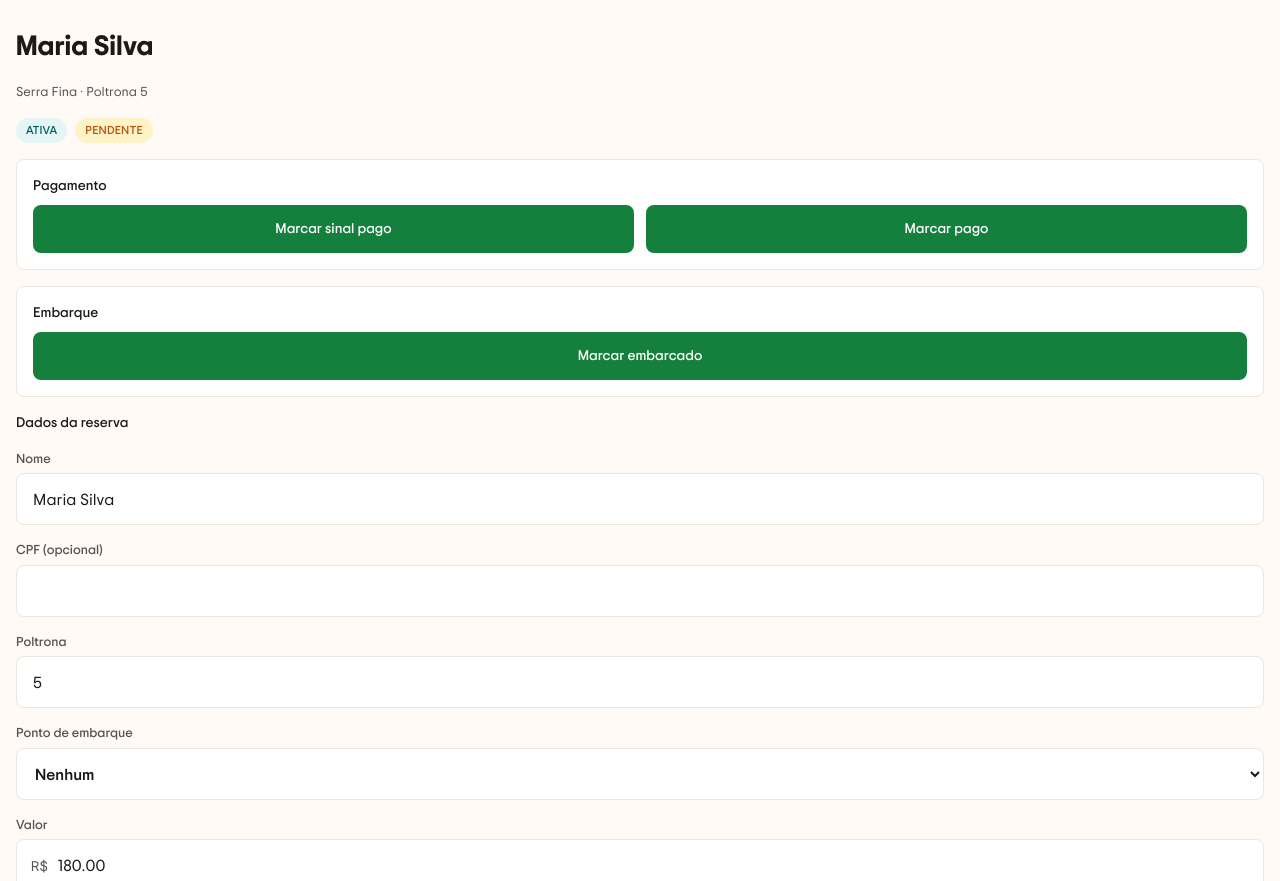
Test: ReservaDetalhePage › marca embarcado e depois desfaz, 1 toque cada
This screenshot has width=1280, height=881.
Expected: the heading "Maria Silva" is shown, top-left (16, 26), bottom-right (154, 64)
What coordinates should you click on to do the following:
click the button "Marcar embarcado"
I would click on:
 (640, 356)
Its box is top-left (33, 332), bottom-right (1247, 380).
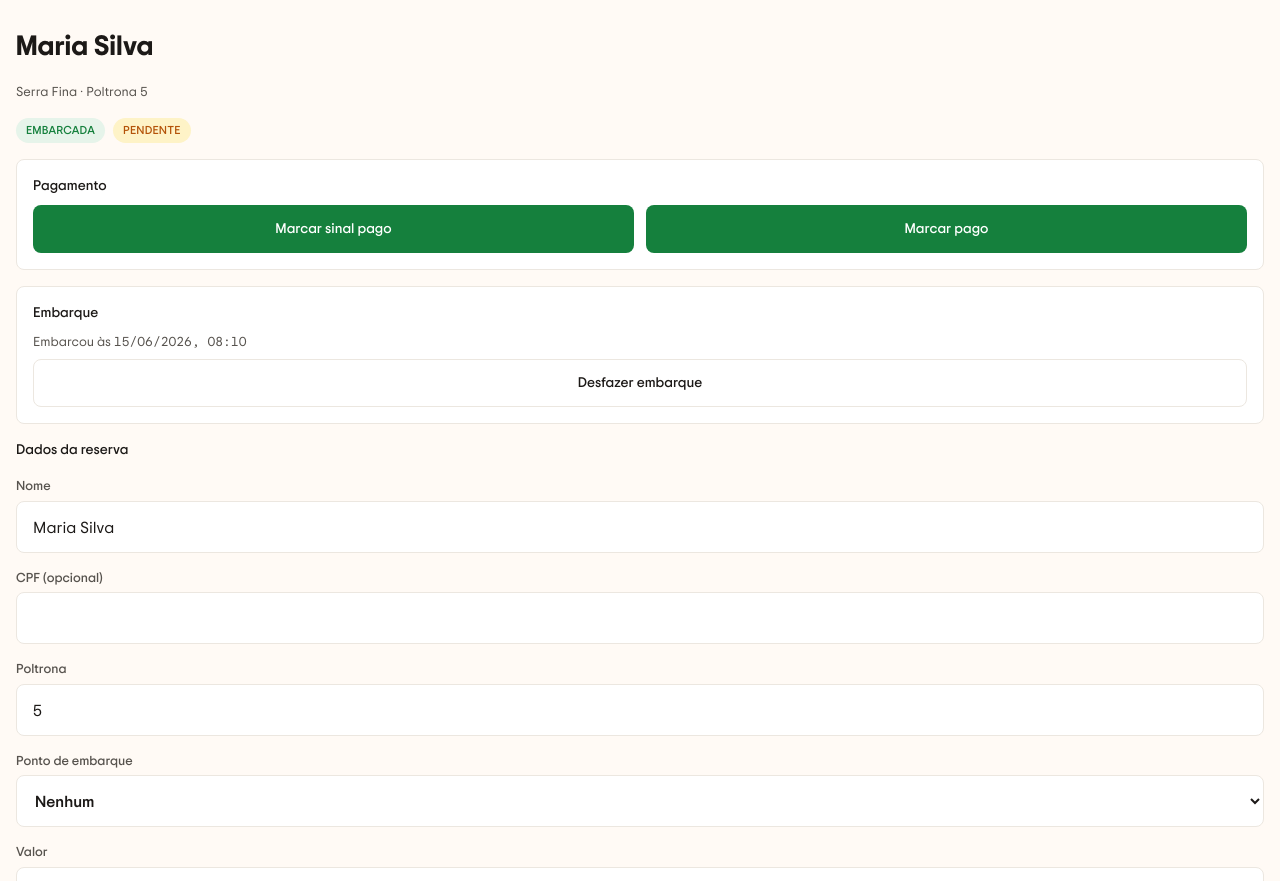
Now the button "Desfazer embarque" is shown, box top-left (33, 359), bottom-right (1247, 407)
